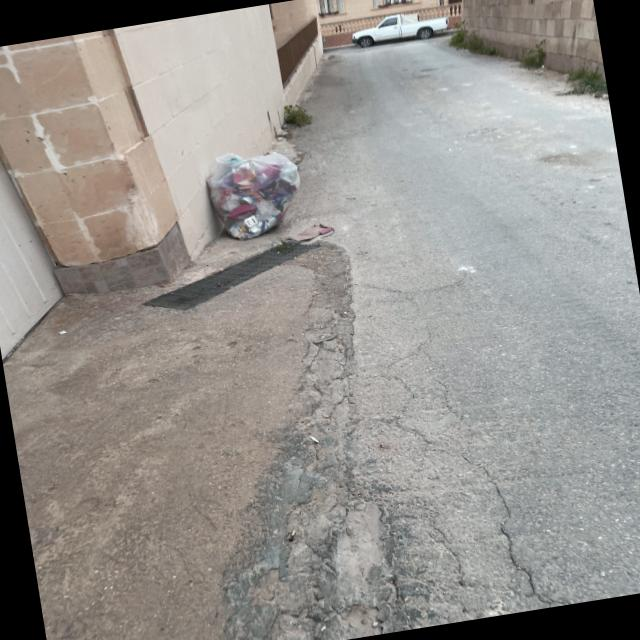grey_bag: (198, 140, 310, 247)
